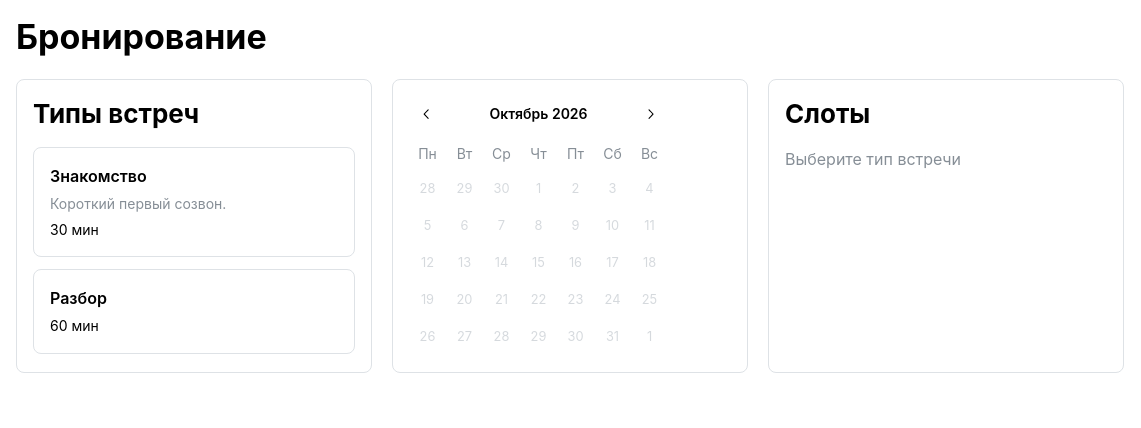
Test: booking page › shows type cards, the month calendar and slots of the selected type
This screenshot has width=1141, height=428.
Expected: the heading "Бронирование" is shown, [16,16,267,57]
Expected: the button "Разбор 60 мин" is shown, [33,270,355,354]
Click the button "Знакомство Короткий первый созвон. 30 мин". click: click(194, 202)
box: [33,147,355,258]
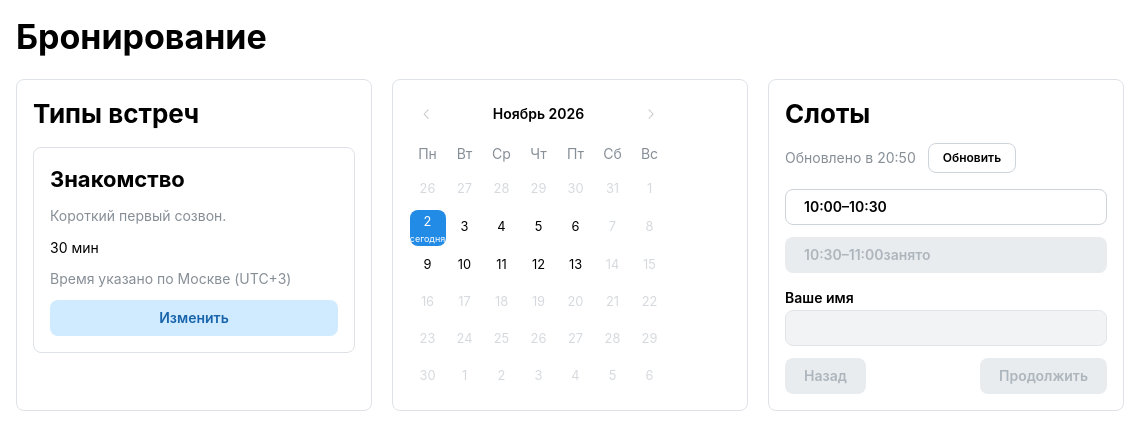
Expected: the text "Время указано по Москве (UTC+3)" is shown, [50,270,292,288]
Expected: the button "Изменить" is shown, [50,300,338,336]
Expected: the button "10:00–10:30" is shown, [785,189,1107,225]
